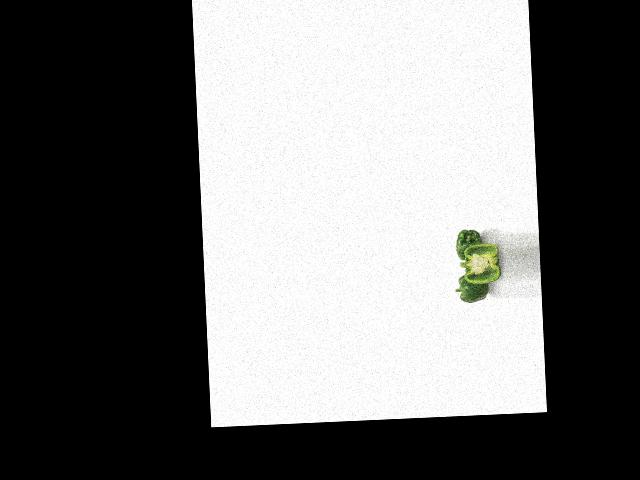bell_pepper: (452, 226, 486, 263)
